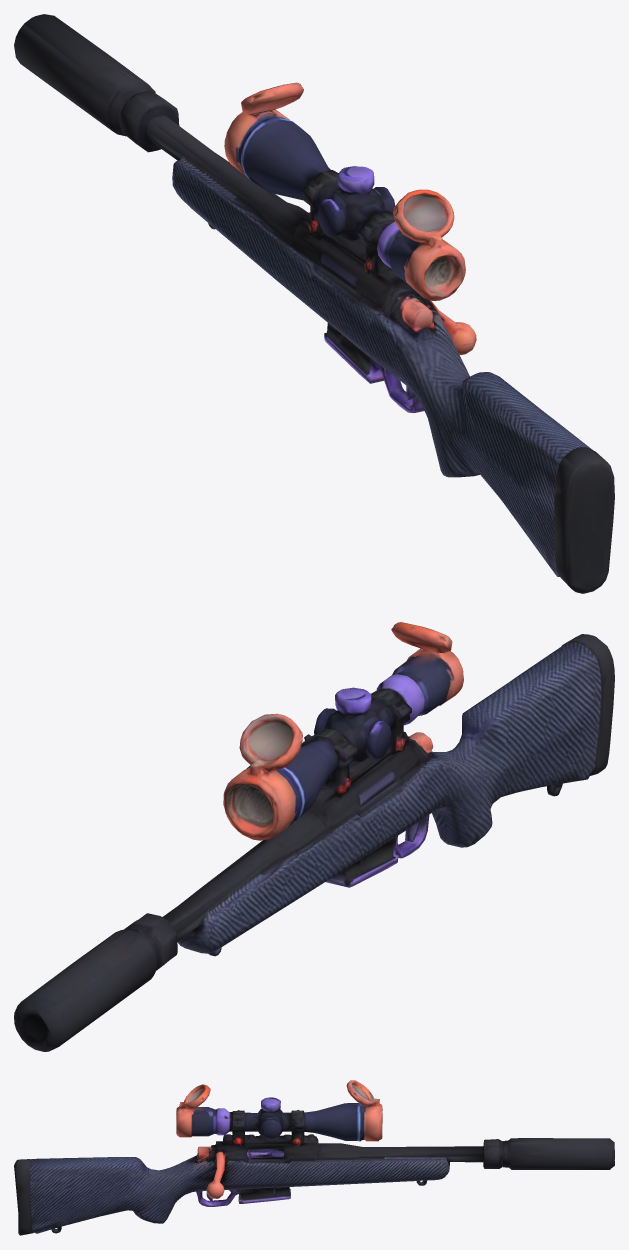
The model's file is r_obsidian.glb.
The picture shows the model from 3 angles, top to bottom: view 1: azimuth 30°, elevation 25°; view 2: azimuth 150°, elevation 25°; view 3: azimuth 270°, elevation 25°; orthographic projection. The views are drawn at different scales.
Visible parts, largest first — view 1: node_0; view 2: node_0; view 3: node_0.
Boxes of the visible parts, x1,y1,x2,y2 form: node_0: [14, 14, 614, 593]; node_0: [14, 622, 614, 1051]; node_0: [14, 1080, 614, 1235].
Size of the model in its own units: 0.1408 by 0.3875 by 1.39.
Materials: 1 (1 with a texture image).
